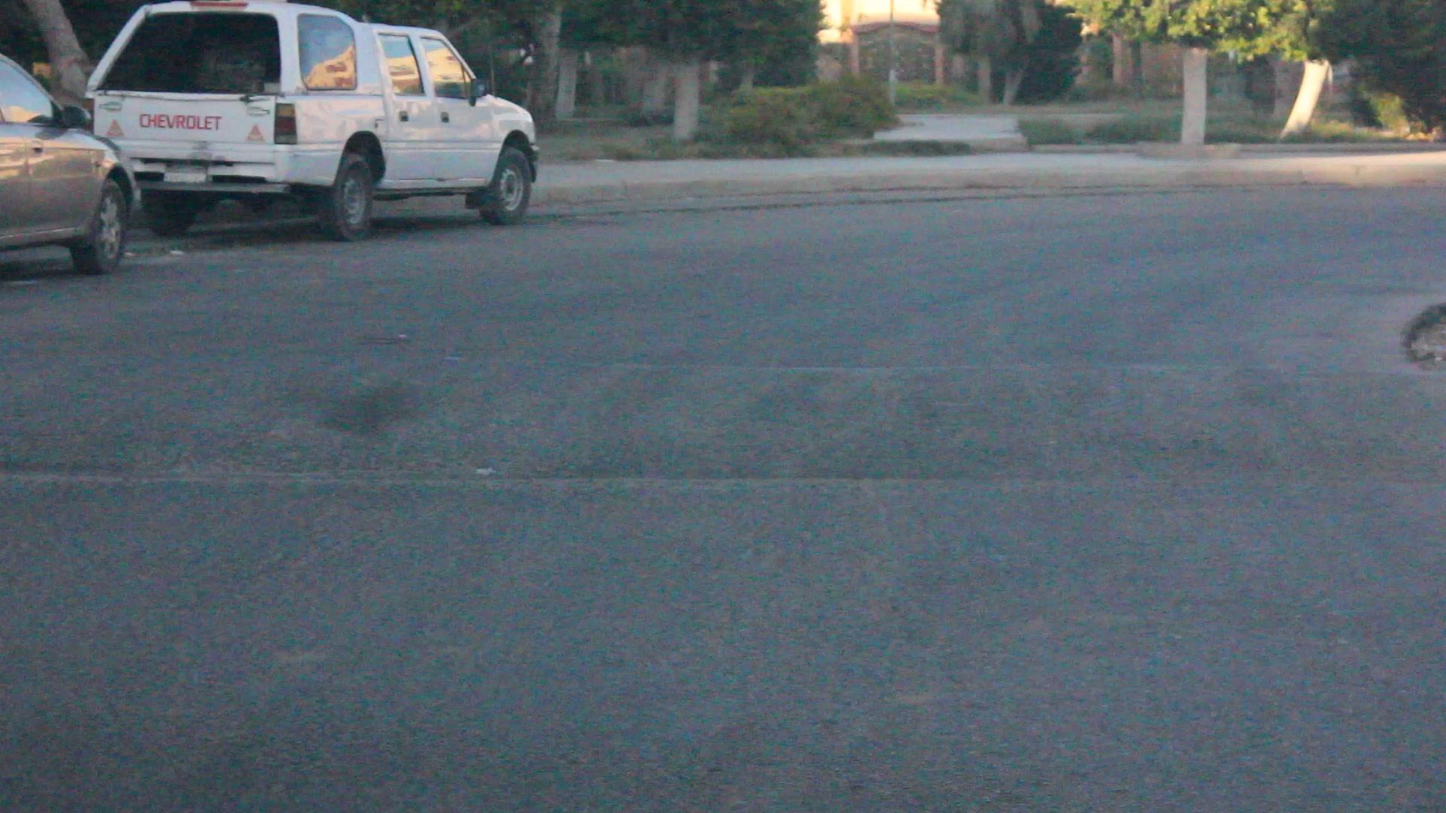Bump: (0, 322, 1444, 502)
